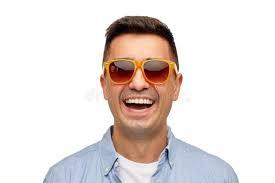sunglasses: (106, 55, 176, 89)
